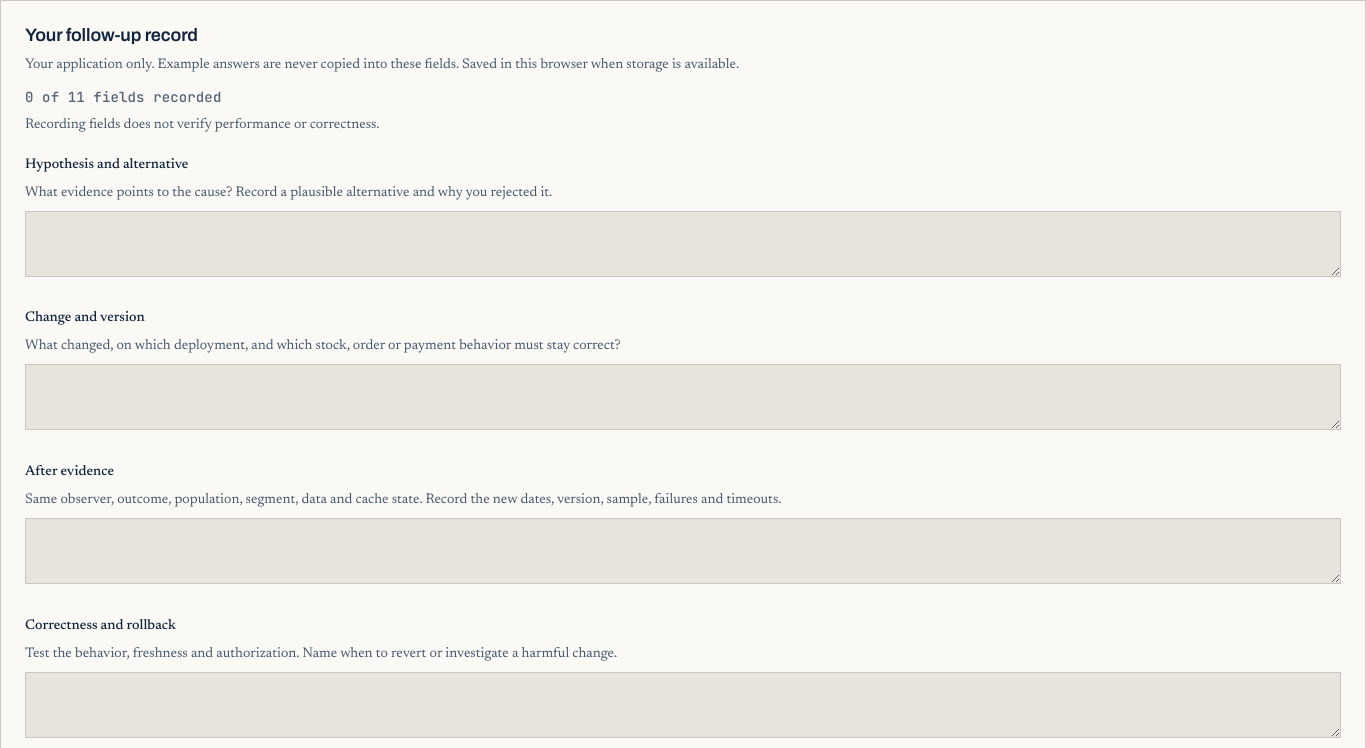
Test: a rejected clipboard operation offers exact manual Markdown without losing the worksheet
This screenshot has width=1366, height=748.
Type "Repeated queries explain the controlled run" into the text box labelled "Hypothesis and alternative".
click(683, 244); type("Repeated queries explain the controlled run")  # box [25,211,1341,277]
(page scrolled)
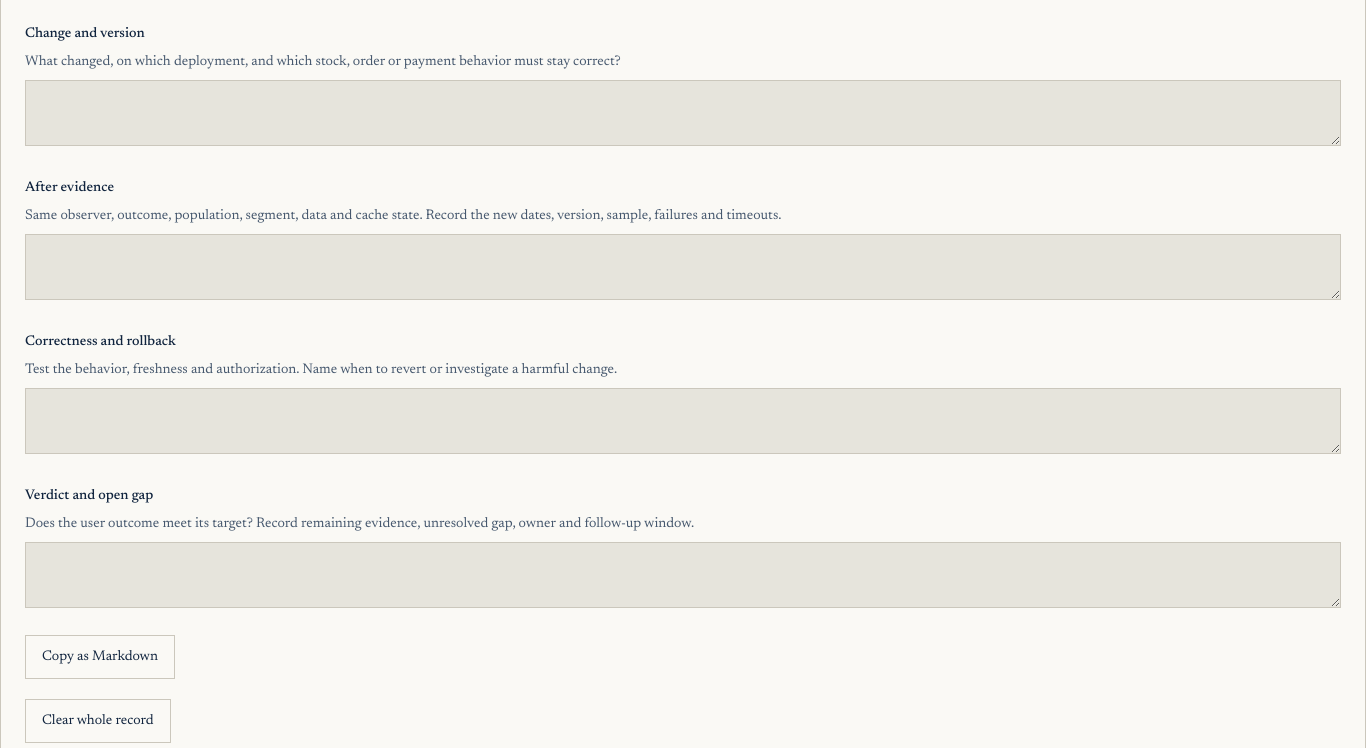
Click the button "Copy as Markdown".
click(100, 657)  # box [25,635,175,679]
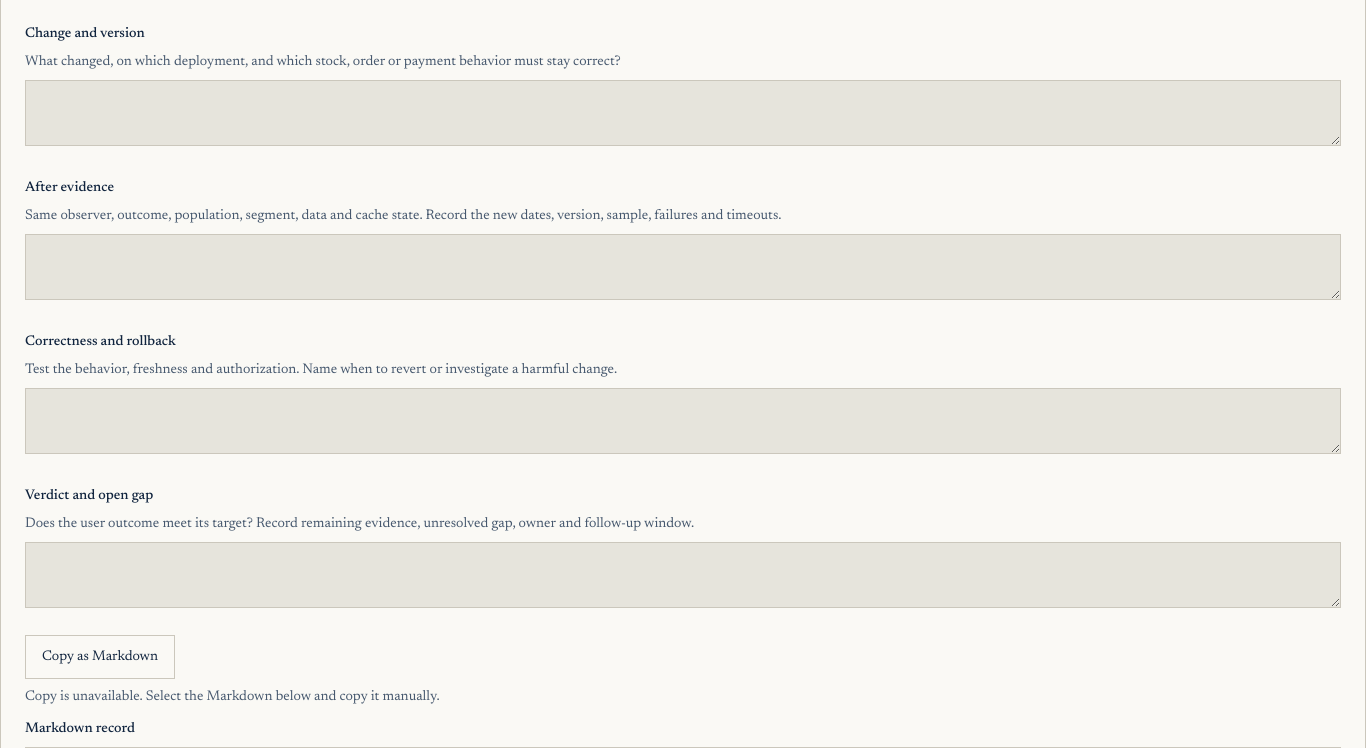
Check: the message named "Copy status" shows "Copy is unavailable", box [25,690,440,704]
